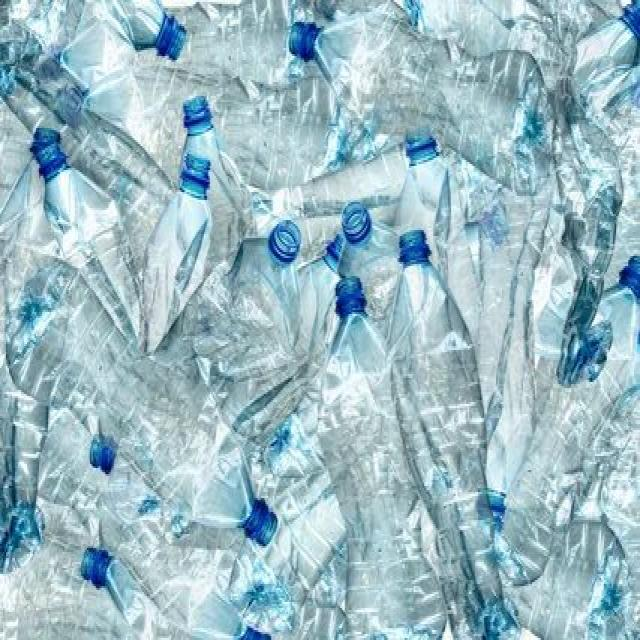blue: (1, 270, 279, 545), (317, 280, 450, 640), (291, 12, 553, 190), (391, 232, 501, 637)
